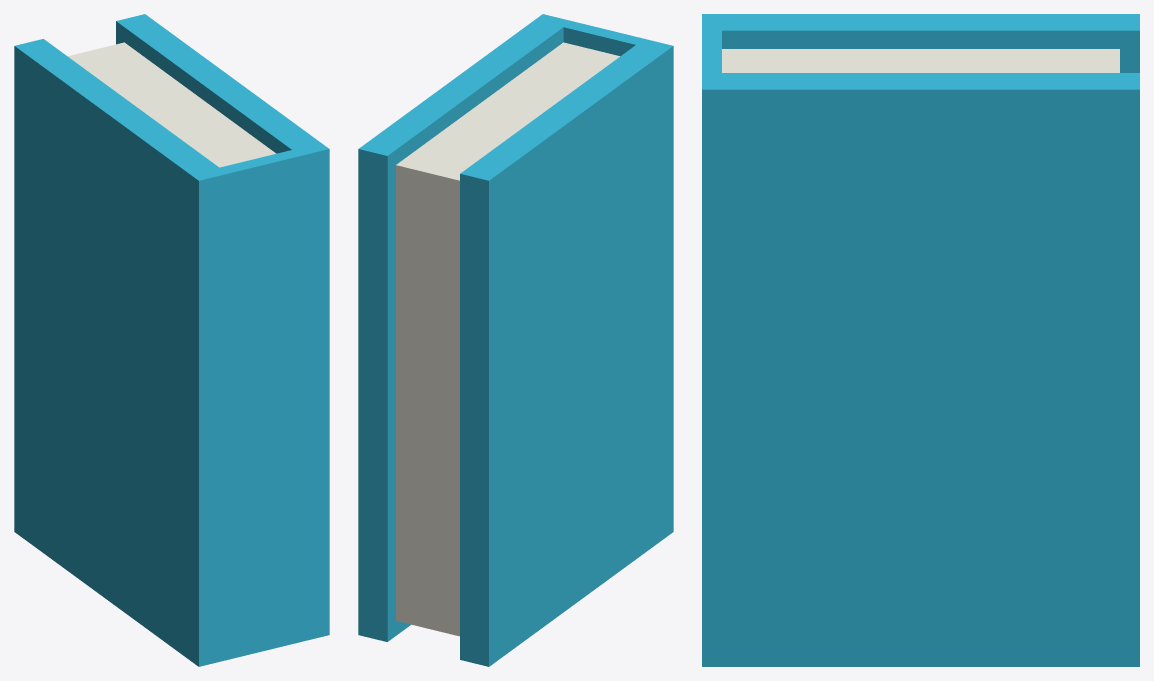
File: Book_Blue_Light.fbx
3 renders of one model, left to right at view 1: azimuth 30°, elevation 25°; view 2: azimuth 150°, elevation 25°; view 3: azimuth 270°, elevation 25°, orthographic. The views are drawn at different scales.
Visible parts, largest first — view 1: pCube5; view 2: pCube5; view 3: pCube5.
Boxes of the visible parts, box(x1,y1,x2,y2) form: pCube5: box(14, 14, 329, 666); pCube5: box(358, 14, 673, 666); pCube5: box(702, 14, 1139, 666).
Bounding box in the file's own units: 9 × 32 × 22.
